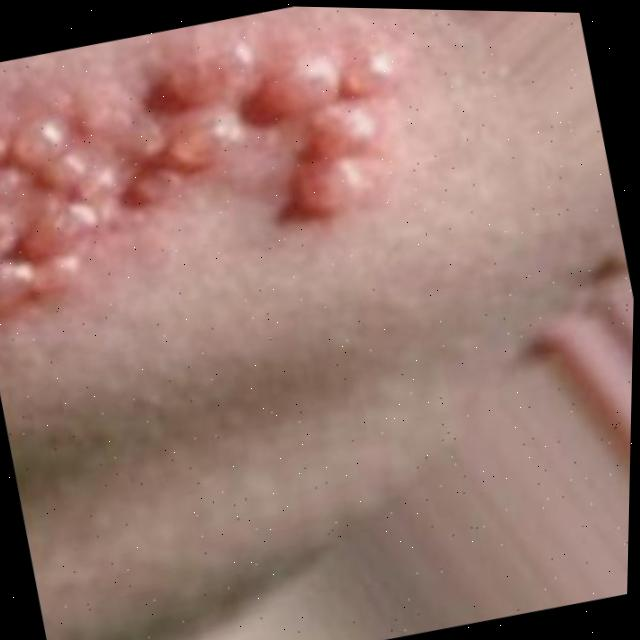Shingles: (0, 22, 430, 325)
